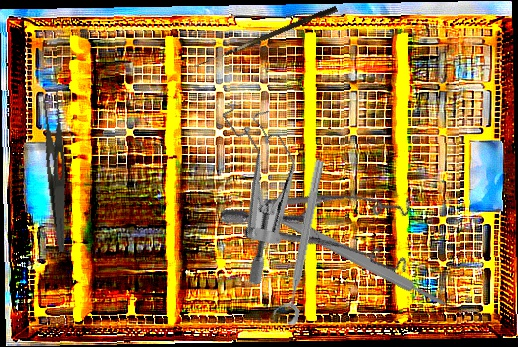Dressing Forceps: (34, 86, 84, 254)
Fixation Ring: (270, 156, 329, 327)
Hook Surgical: (193, 3, 339, 74)
Scalpel Handle: (251, 198, 449, 311)
Speculum: (218, 144, 434, 329), (167, 86, 342, 288)
